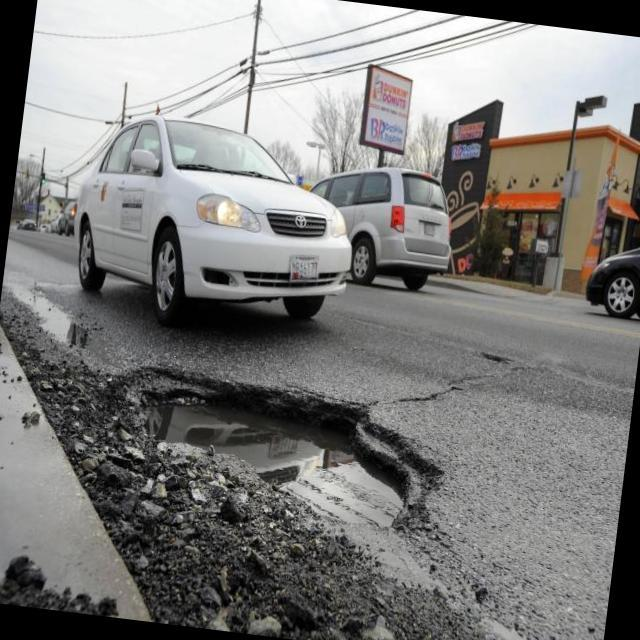Pothole: (123, 370, 442, 529)
